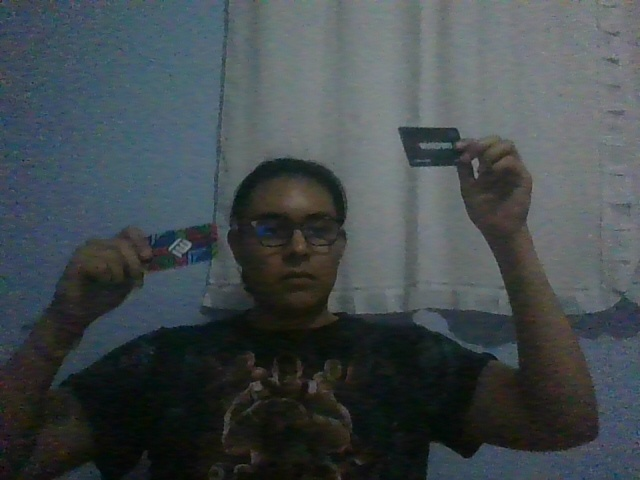tarjeta: (144, 222, 220, 273), (397, 126, 464, 168)
